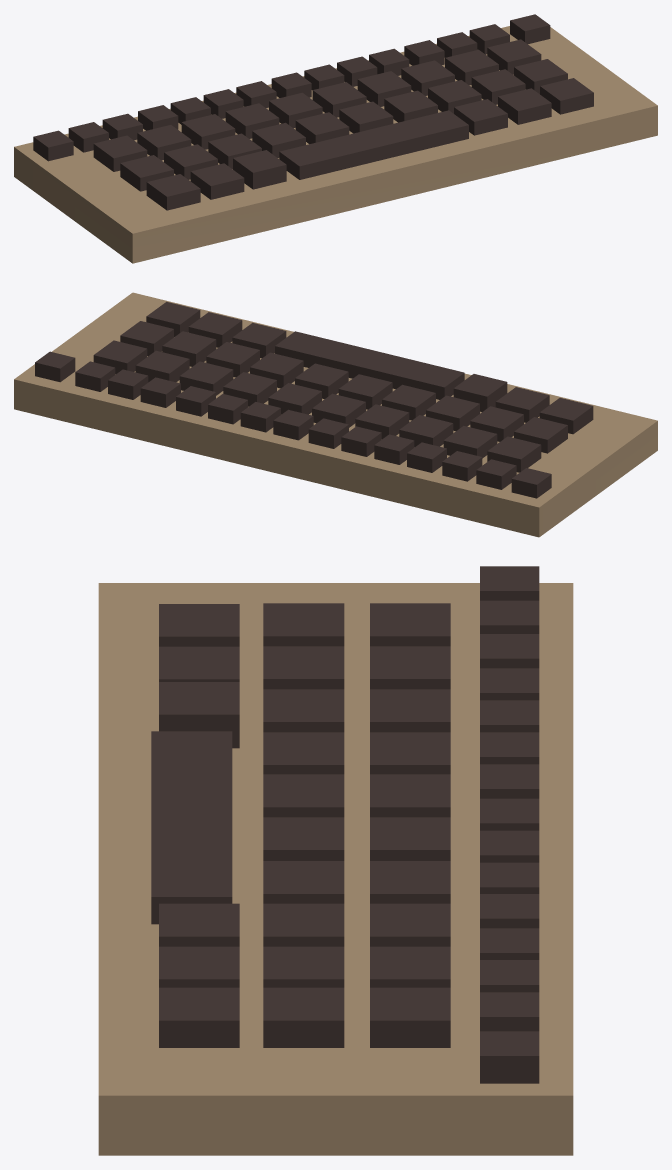
The model's file is ComputadorTeclado.fbx.
3 views of the same model, one above another, from view 1: azimuth 30°, elevation 25°; view 2: azimuth 150°, elevation 25°; view 3: azimuth 270°, elevation 25° (orthographic). The views are drawn at different scales.
Visible parts, largest first — view 1: KeyboardRetro; view 2: KeyboardRetro; view 3: KeyboardRetro.
Boxes of the visible parts, bbox=[...] form: KeyboardRetro: bbox=[14, 14, 657, 263]; KeyboardRetro: bbox=[14, 292, 657, 537]; KeyboardRetro: bbox=[98, 566, 573, 1155].
Size of the model in its own units: 38.38 by 3.26 by 15.03.
